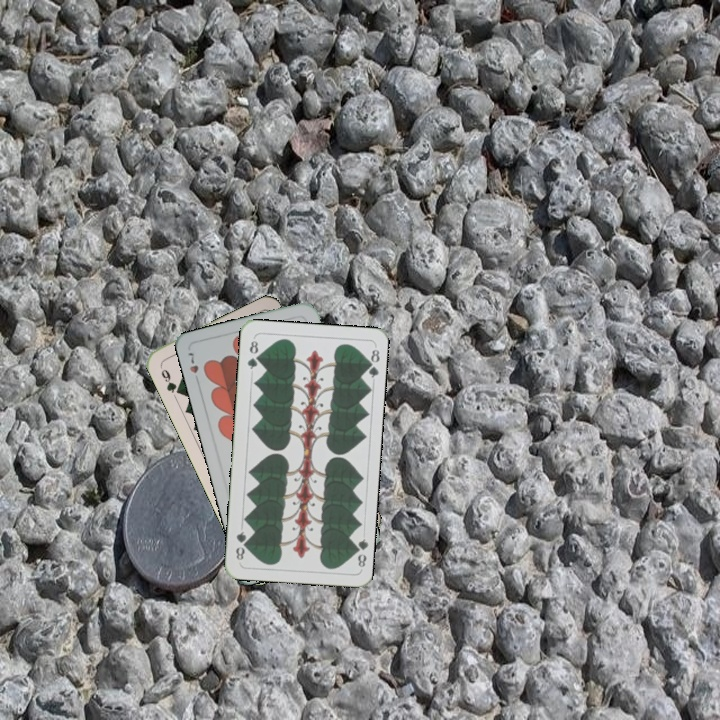G8: (349, 535, 370, 569), (243, 336, 261, 372)
G9: (156, 361, 184, 397)
H7: (183, 348, 202, 387)
